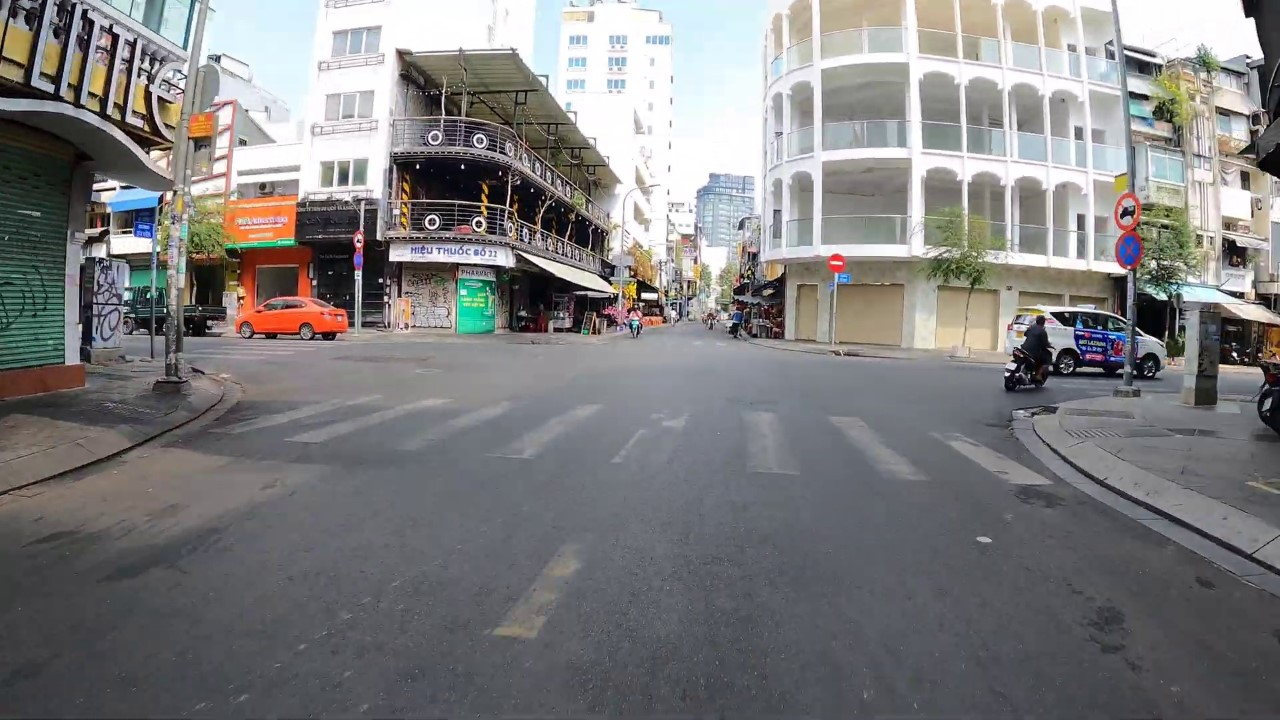cam_nguoc_chieu: (827, 253, 847, 274)
